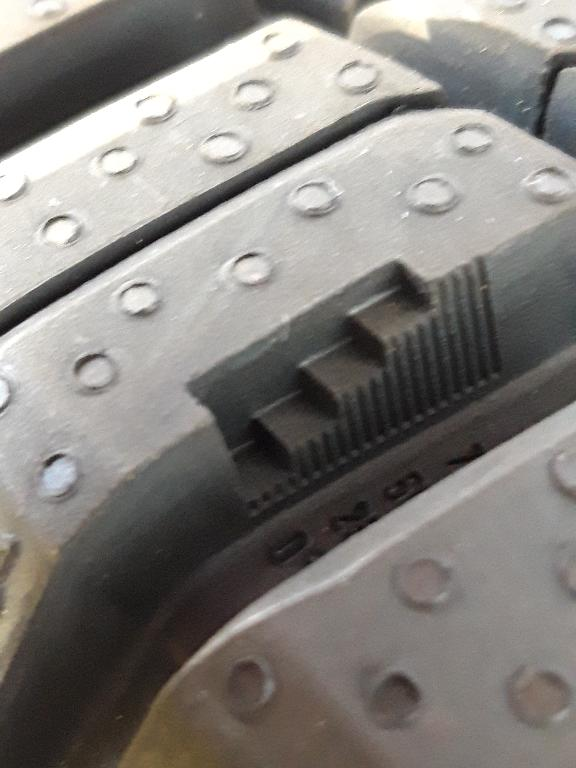temoin:100: (182, 251, 514, 528)
